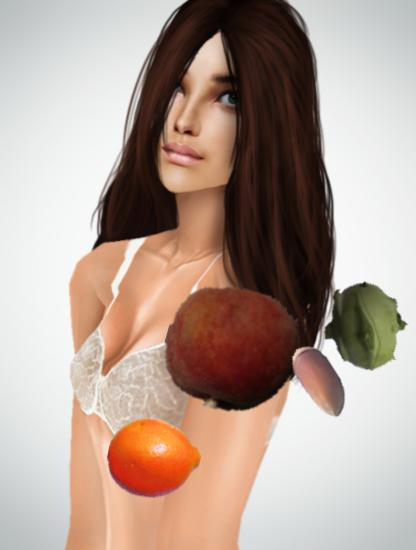Hazelnut: (280, 341, 361, 422)
Kohlrabi: (321, 281, 411, 371)
Peach: (165, 284, 297, 416)
Tangelo: (108, 413, 200, 505)
